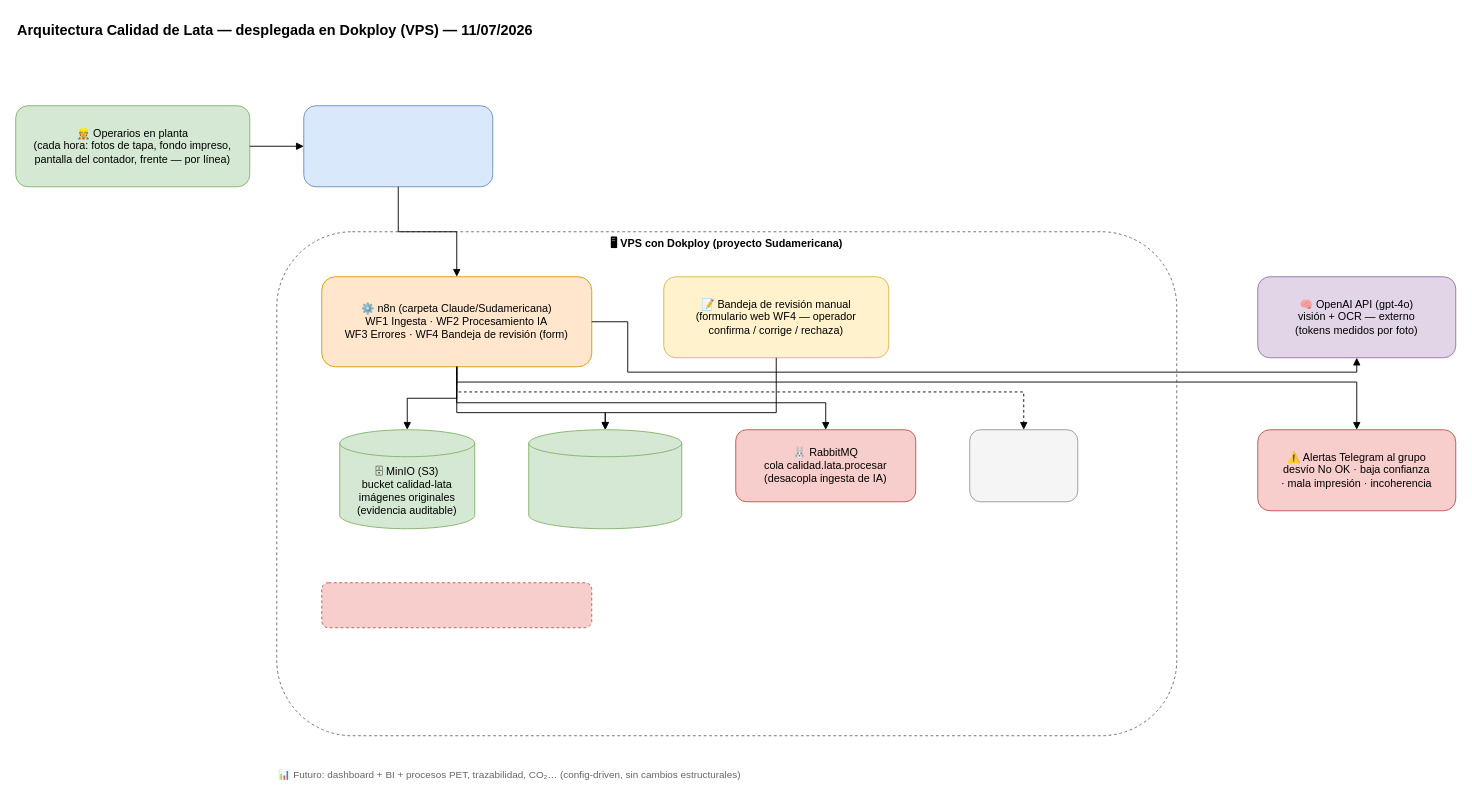
Some shapes in this 1472 by 805 pixel diagram are drawn without their labels. Here are the shapes that lost their labels. From the top down, the centre of each, then its label:
point 398,146: 📱 Telegram grupo de calidad por línea (bot sudamericana_bot)
point 605,479: 🐘 PostgreSQL evidencias + resultados (dedup por PK, textos, coherencia, tokens)
point 1023,465: 🟥 Redis métricas
point 456,605: 🚨 WF3 Errores → aviso a operaciones
